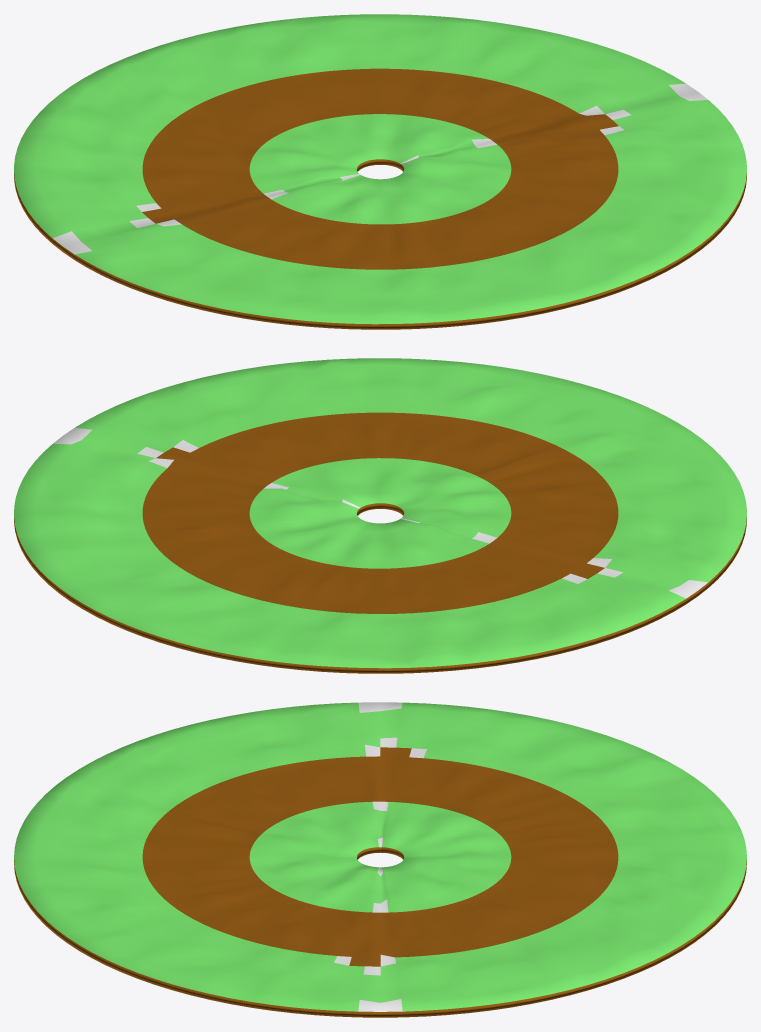
The model's file is disc.fbx.
The picture shows the model from 3 angles, top to bottom: view 1: azimuth 30°, elevation 25°; view 2: azimuth 150°, elevation 25°; view 3: azimuth 270°, elevation 25°; orthographic projection.
Visible parts, largest first — view 1: grass; view 2: grass; view 3: grass.
Part boxes in pixels (<box>): grass: <box>14,14,746,329</box>; grass: <box>14,358,746,673</box>; grass: <box>14,702,746,1017</box>.
Bounding box in the file's own units: 15000 × 267 × 15000.
